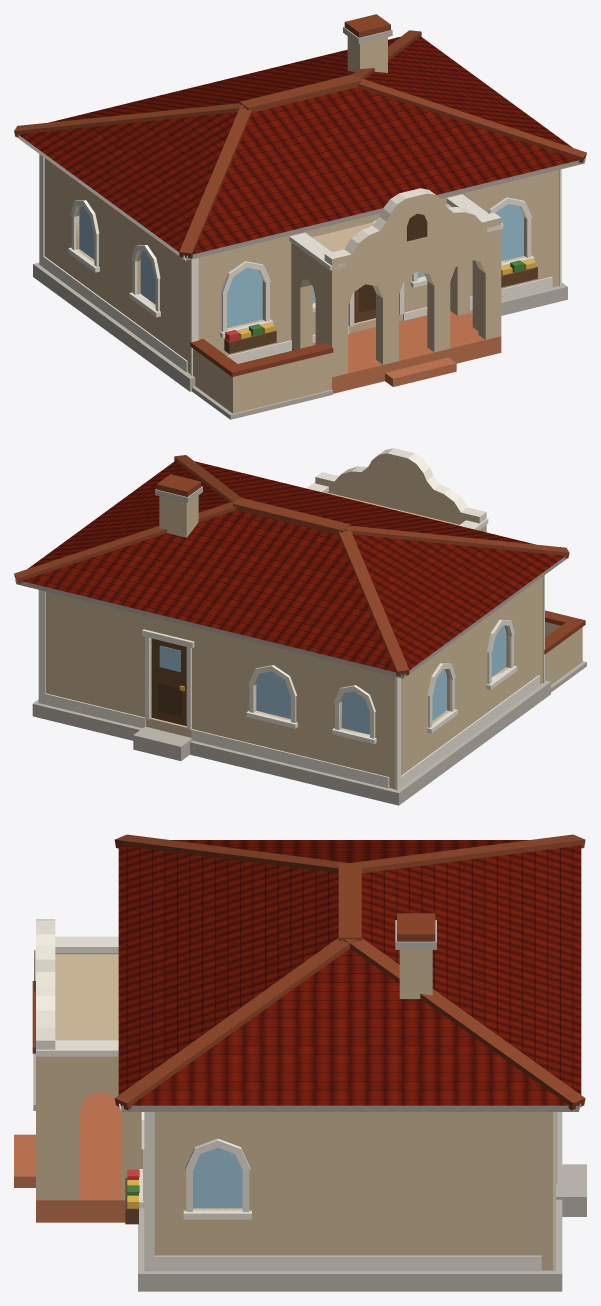
The model's file is base-09-level1.glb.
The picture shows the model from 3 angles, top to bottom: view 1: azimuth 30°, elevation 25°; view 2: azimuth 150°, elevation 25°; view 3: azimuth 270°, elevation 25°; orthographic projection. The views are drawn at different scales.
Parts seen in each view (by area): view 1: base_house_9_finished; view 2: base_house_9_finished; view 3: base_house_9_finished.
Boxes of the visible parts, bbox=[...] form: base_house_9_finished: bbox=[14, 14, 586, 419]; base_house_9_finished: bbox=[14, 448, 586, 805]; base_house_9_finished: bbox=[14, 834, 586, 1291].
Size of the model in its own units: 11.55 by 6.08 by 10.4.
15 materials, 1 textured.
